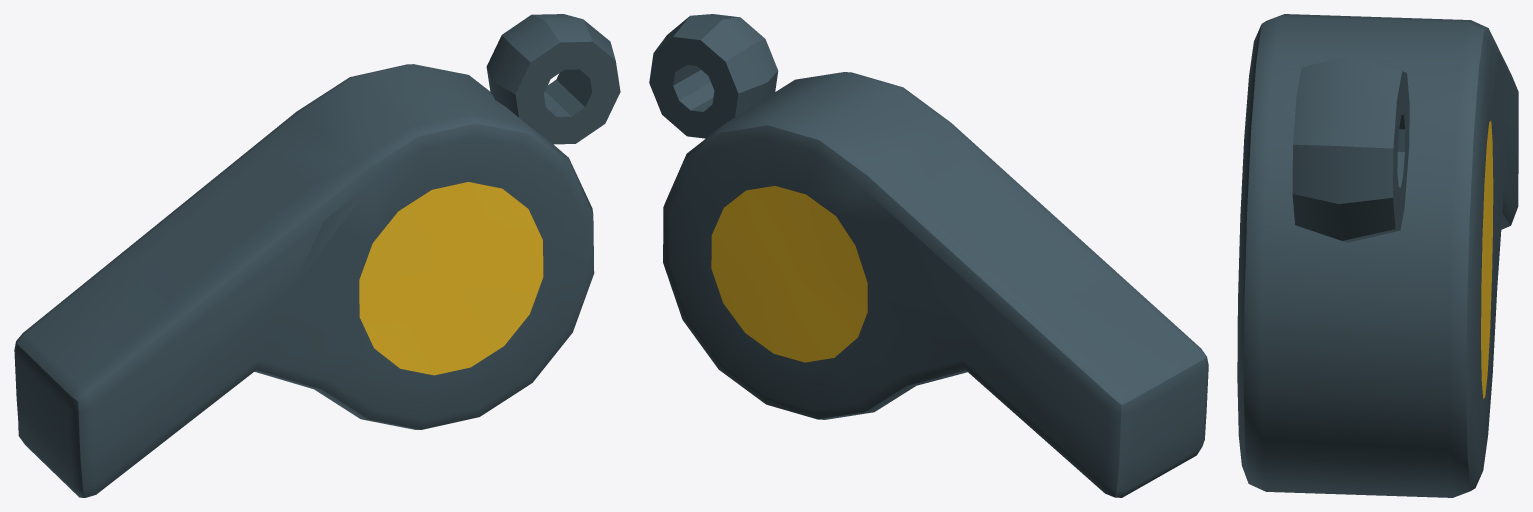
The model's file is whistle.fbx.
The picture shows the model from 3 angles, left to right: view 1: azimuth 30°, elevation 25°; view 2: azimuth 150°, elevation 25°; view 3: azimuth 270°, elevation 25°; orthographic projection. The views are drawn at different scales.
Visible parts, largest first — view 1: whistle; view 2: whistle; view 3: whistle.
Boxes of the visible parts, x1=… form: whistle: x1=14, y1=14, x2=620, y2=497; whistle: x1=649, y1=14, x2=1208, y2=497; whistle: x1=1237, y1=14, x2=1518, y2=497.
Bounding box in the file's own units: 17.45 × 10.56 × 5.35.
